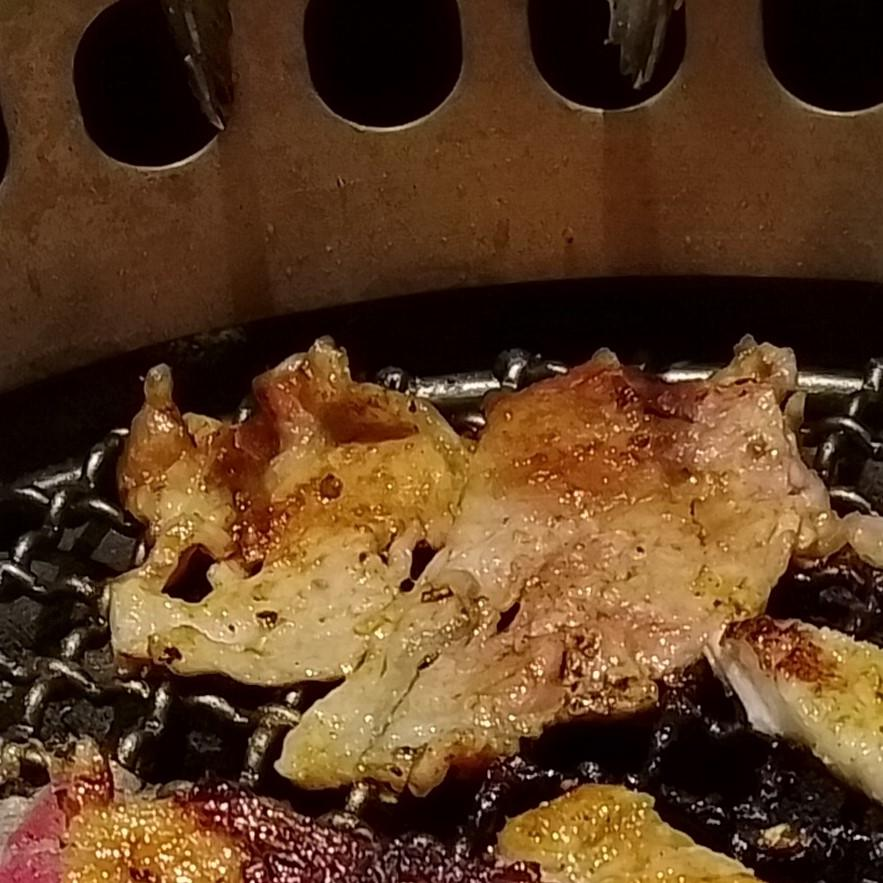Overcooked: (276, 343, 849, 803), (106, 342, 481, 688), (102, 776, 540, 882)
Well-Cooked: (707, 617, 882, 810), (498, 787, 765, 882)
